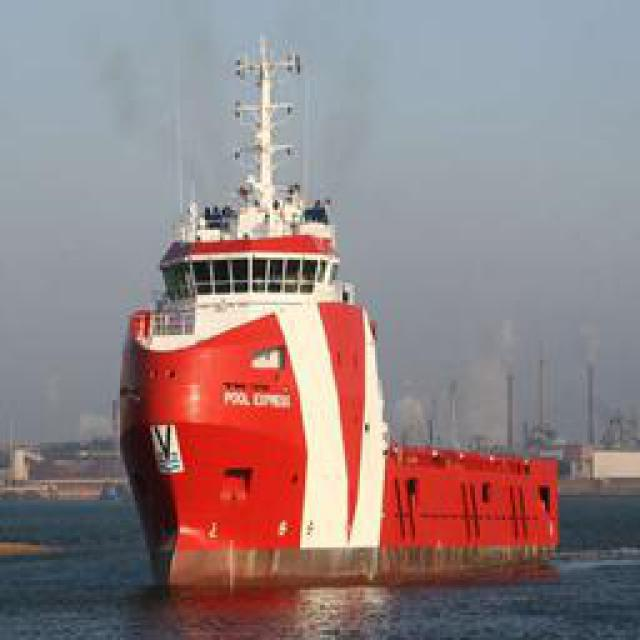Ship: (121, 16, 529, 591)
